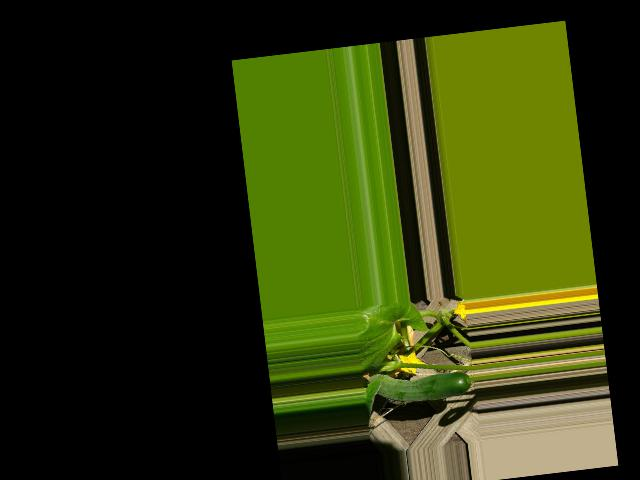cucumber: (362, 363, 471, 408)
